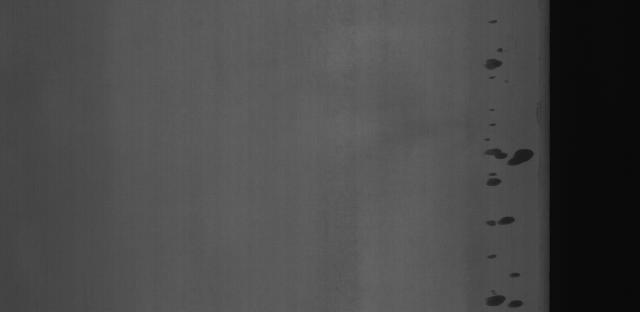oil_spot: (480, 121, 536, 186), (484, 270, 526, 309), (477, 209, 523, 237), (481, 46, 514, 83), (487, 250, 500, 262)
